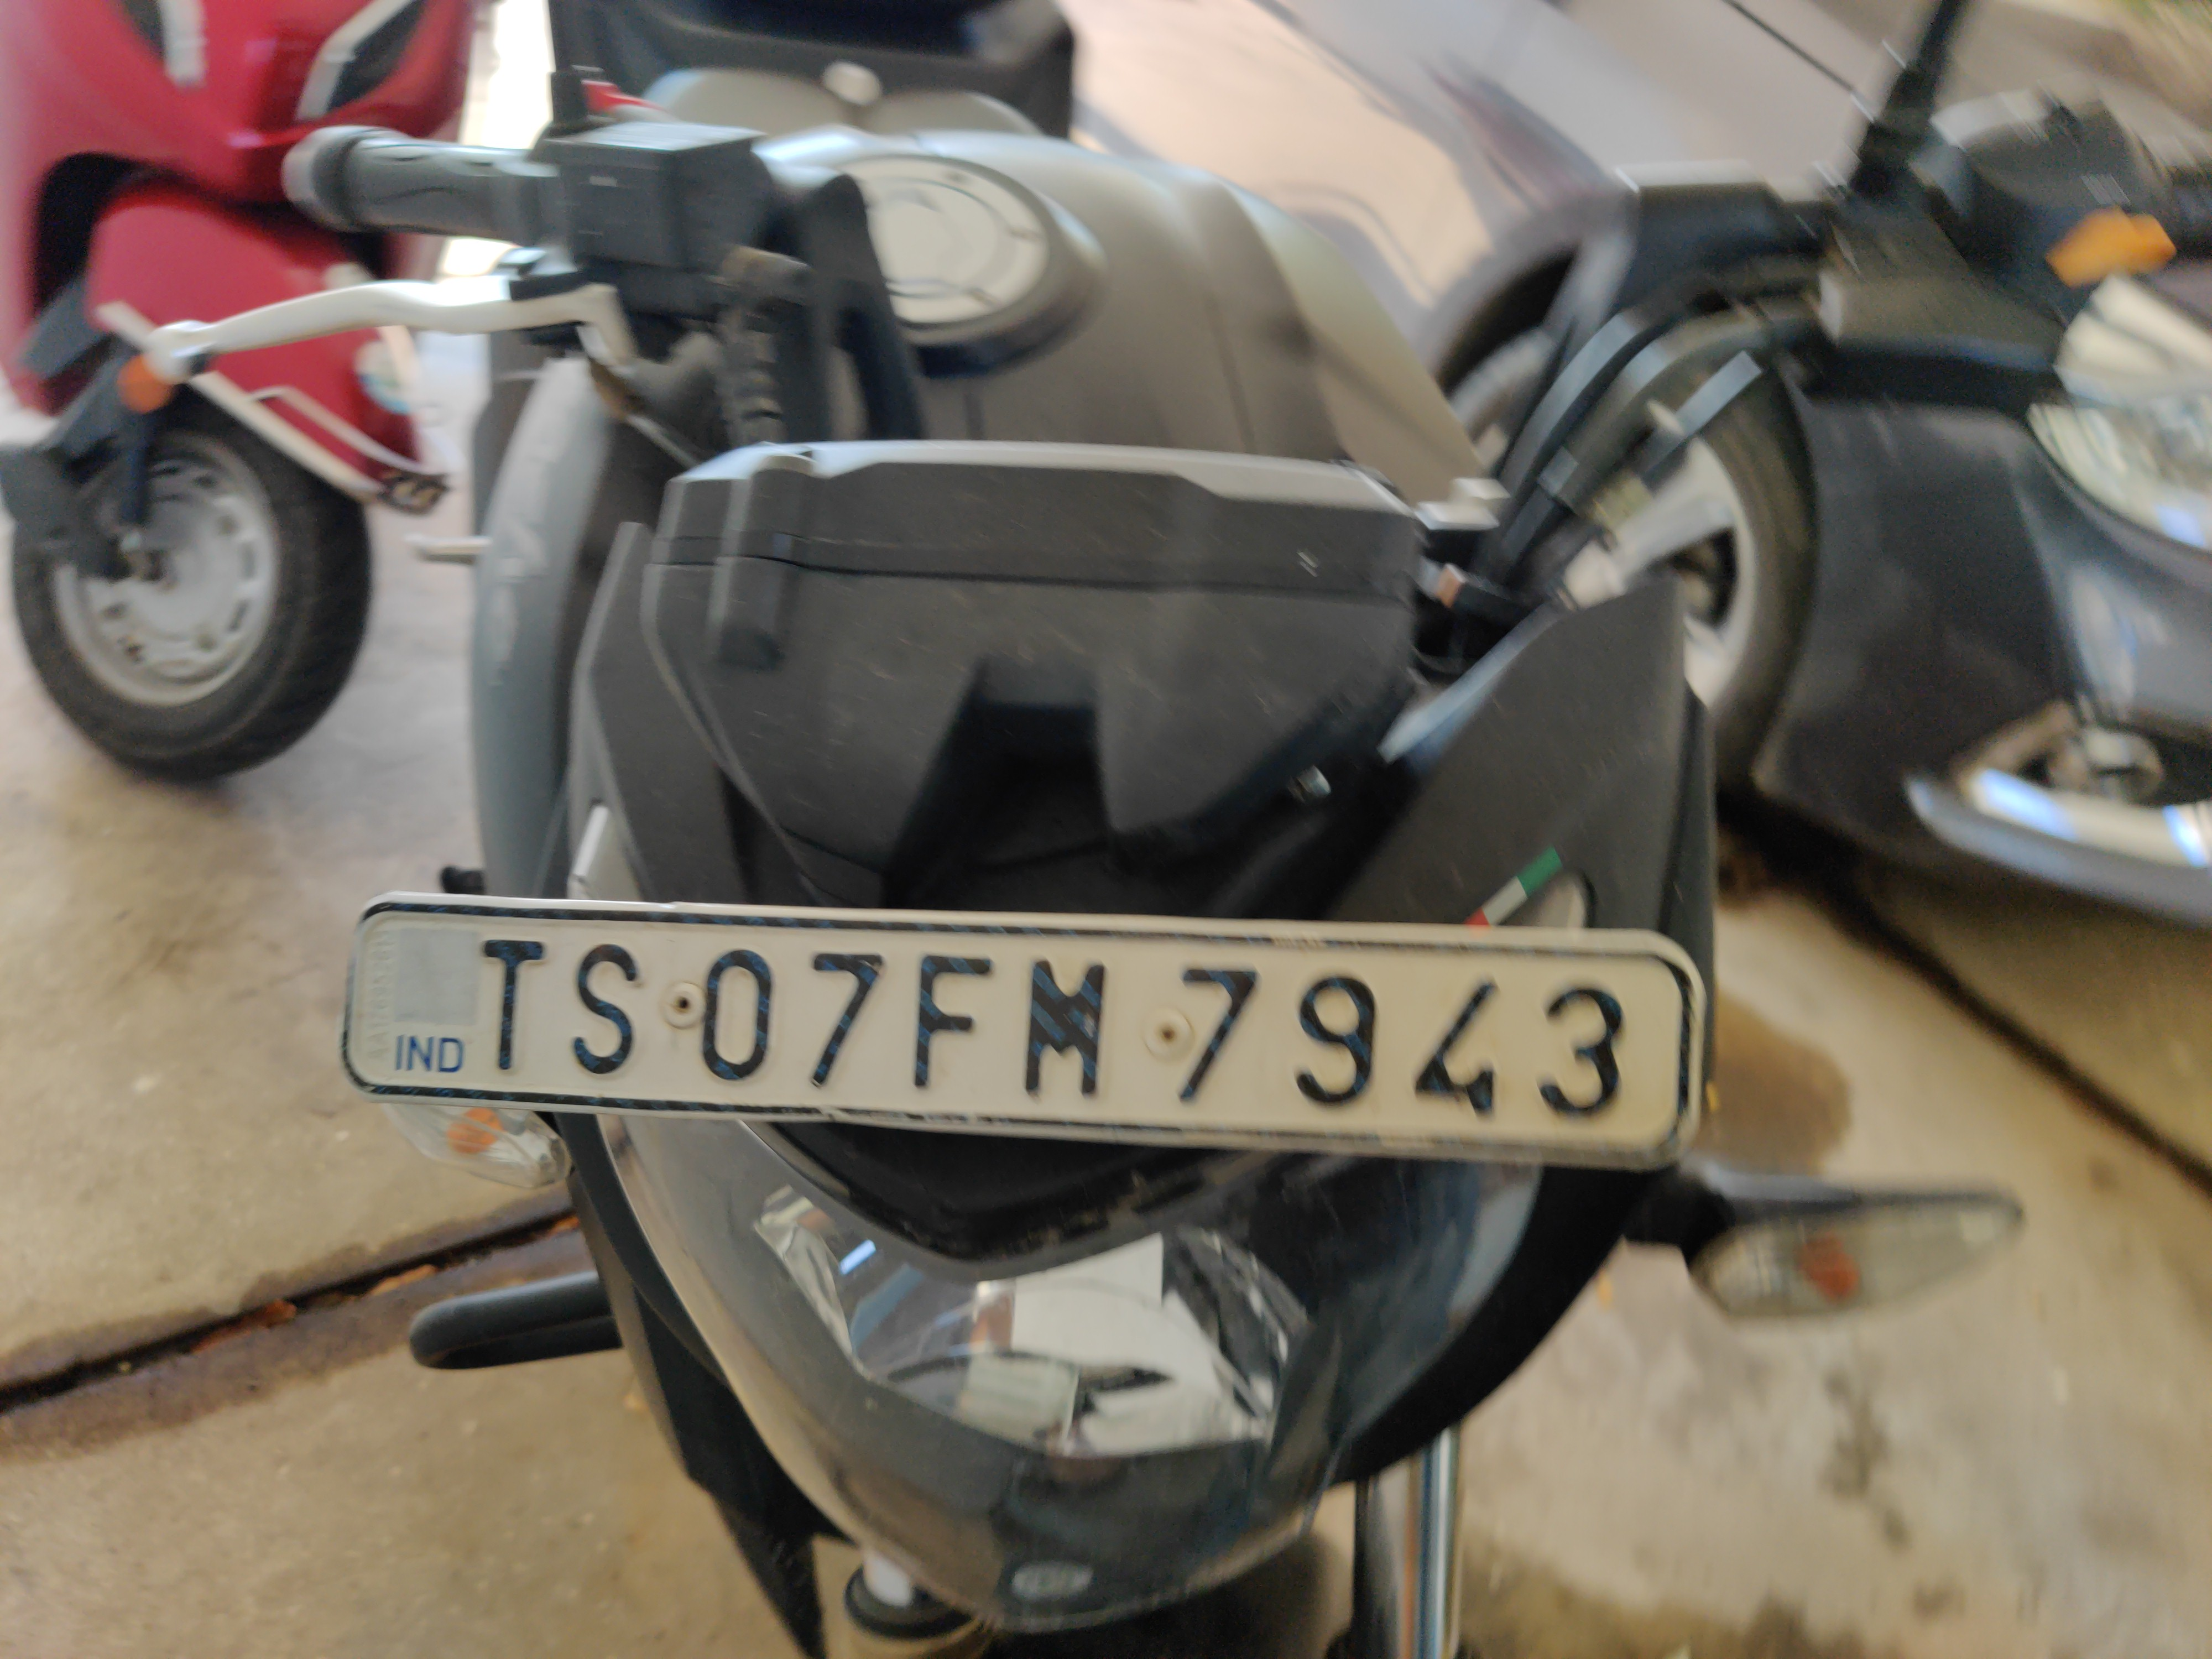plate: (304, 878, 1724, 1186)
